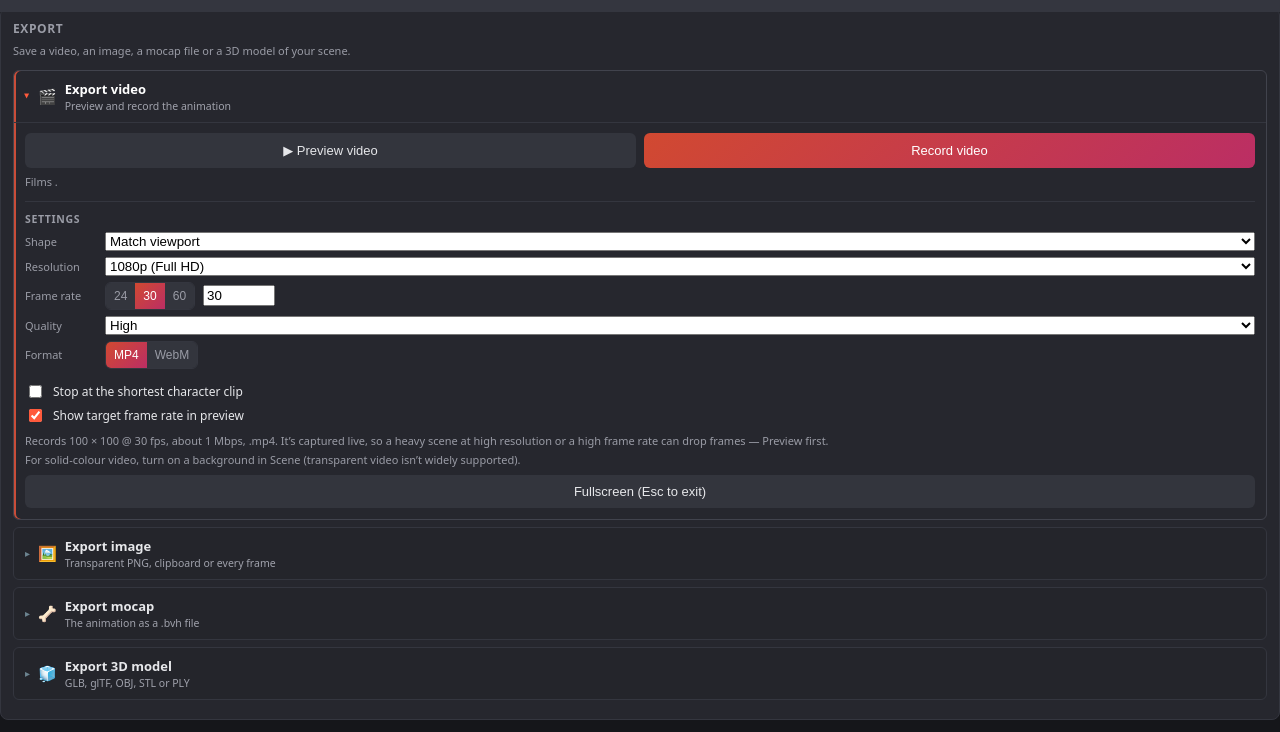
Test case: Export panel — 3D model formats › keeps the rigged pose choice when switching formats back and forth
Click the button "▸ 🧊 Export 3D model GLB, glTF, OBJ, STL or PLY": (118, 666) top-left (14, 648), bottom-right (1266, 698)
(page scrolled)
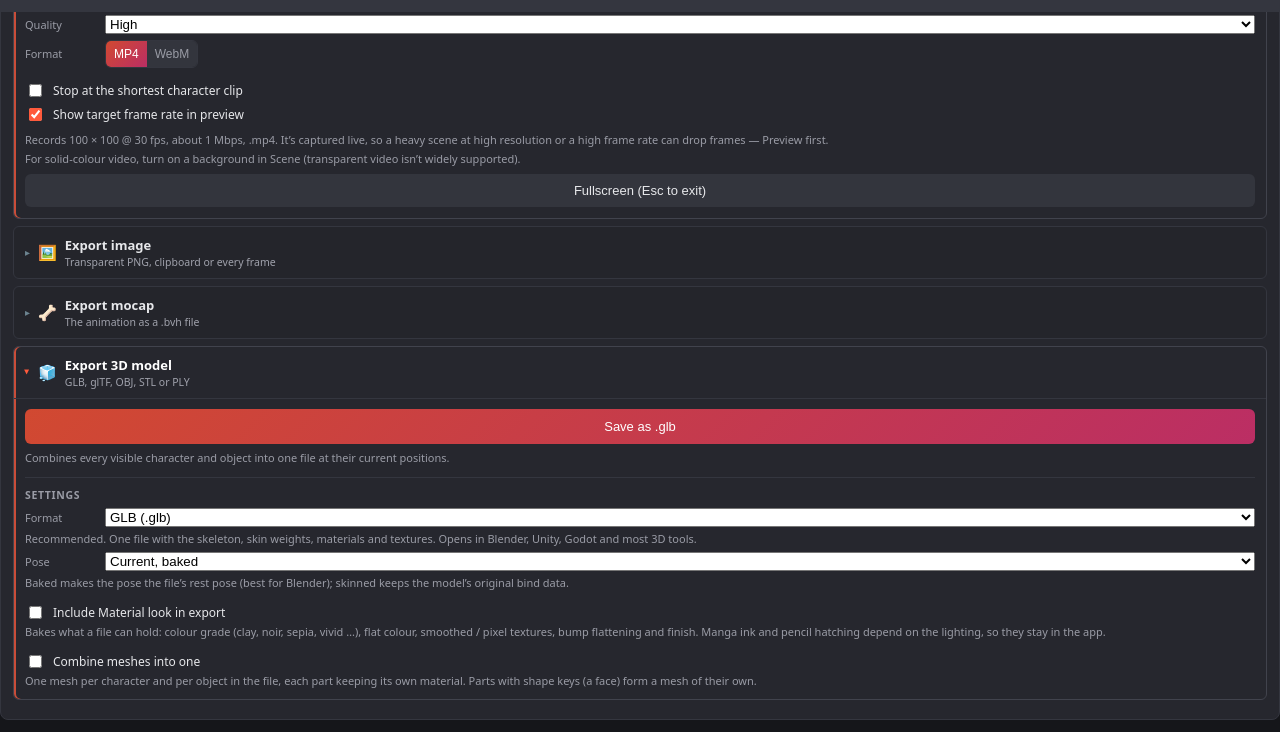
Select "Rest pose" in the dropdown named "Pose": (680, 561) top-left (105, 552), bottom-right (1255, 570)
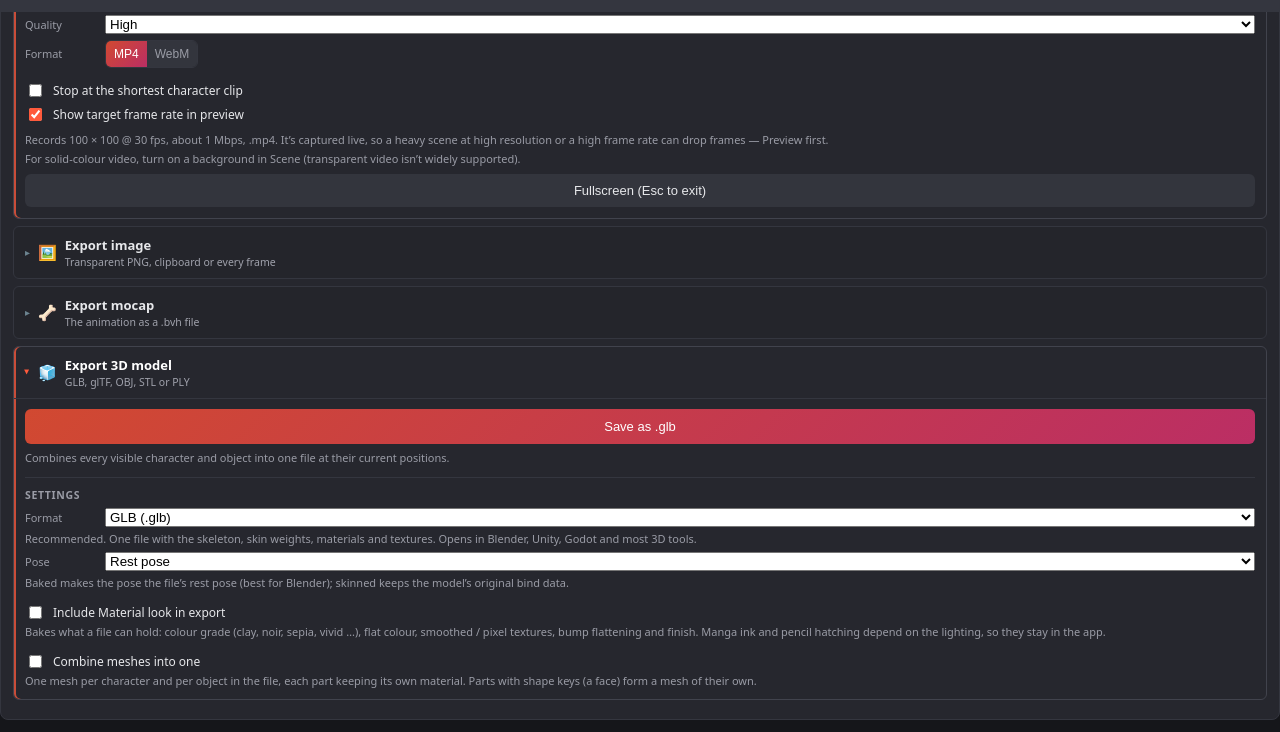
Select "PLY (.ply)" in the dropdown named "3D model format": (680, 517) top-left (105, 508), bottom-right (1255, 526)
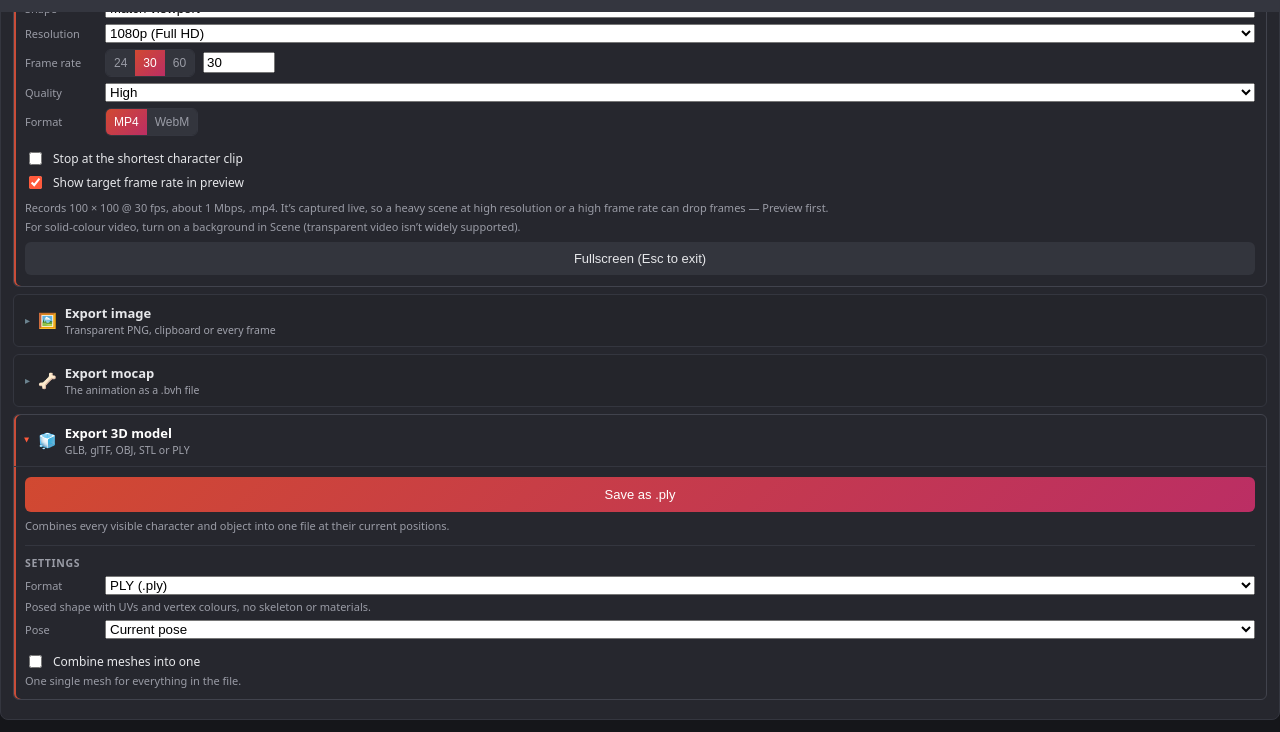
Select "glTF (.gltf)" in the dropdown named "3D model format": (680, 585) top-left (105, 576), bottom-right (1255, 594)
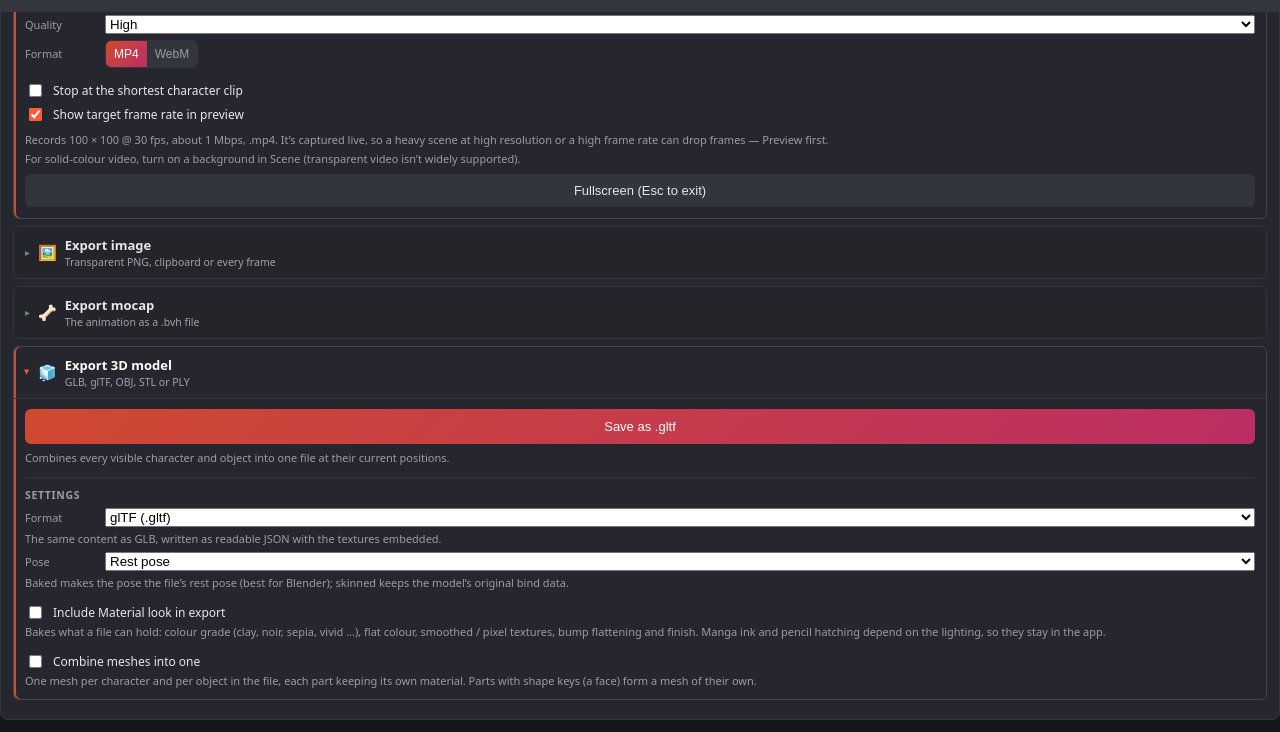
Expected: the button "Save as .gltf" is shown, top-left (25, 408), bottom-right (1255, 444)
